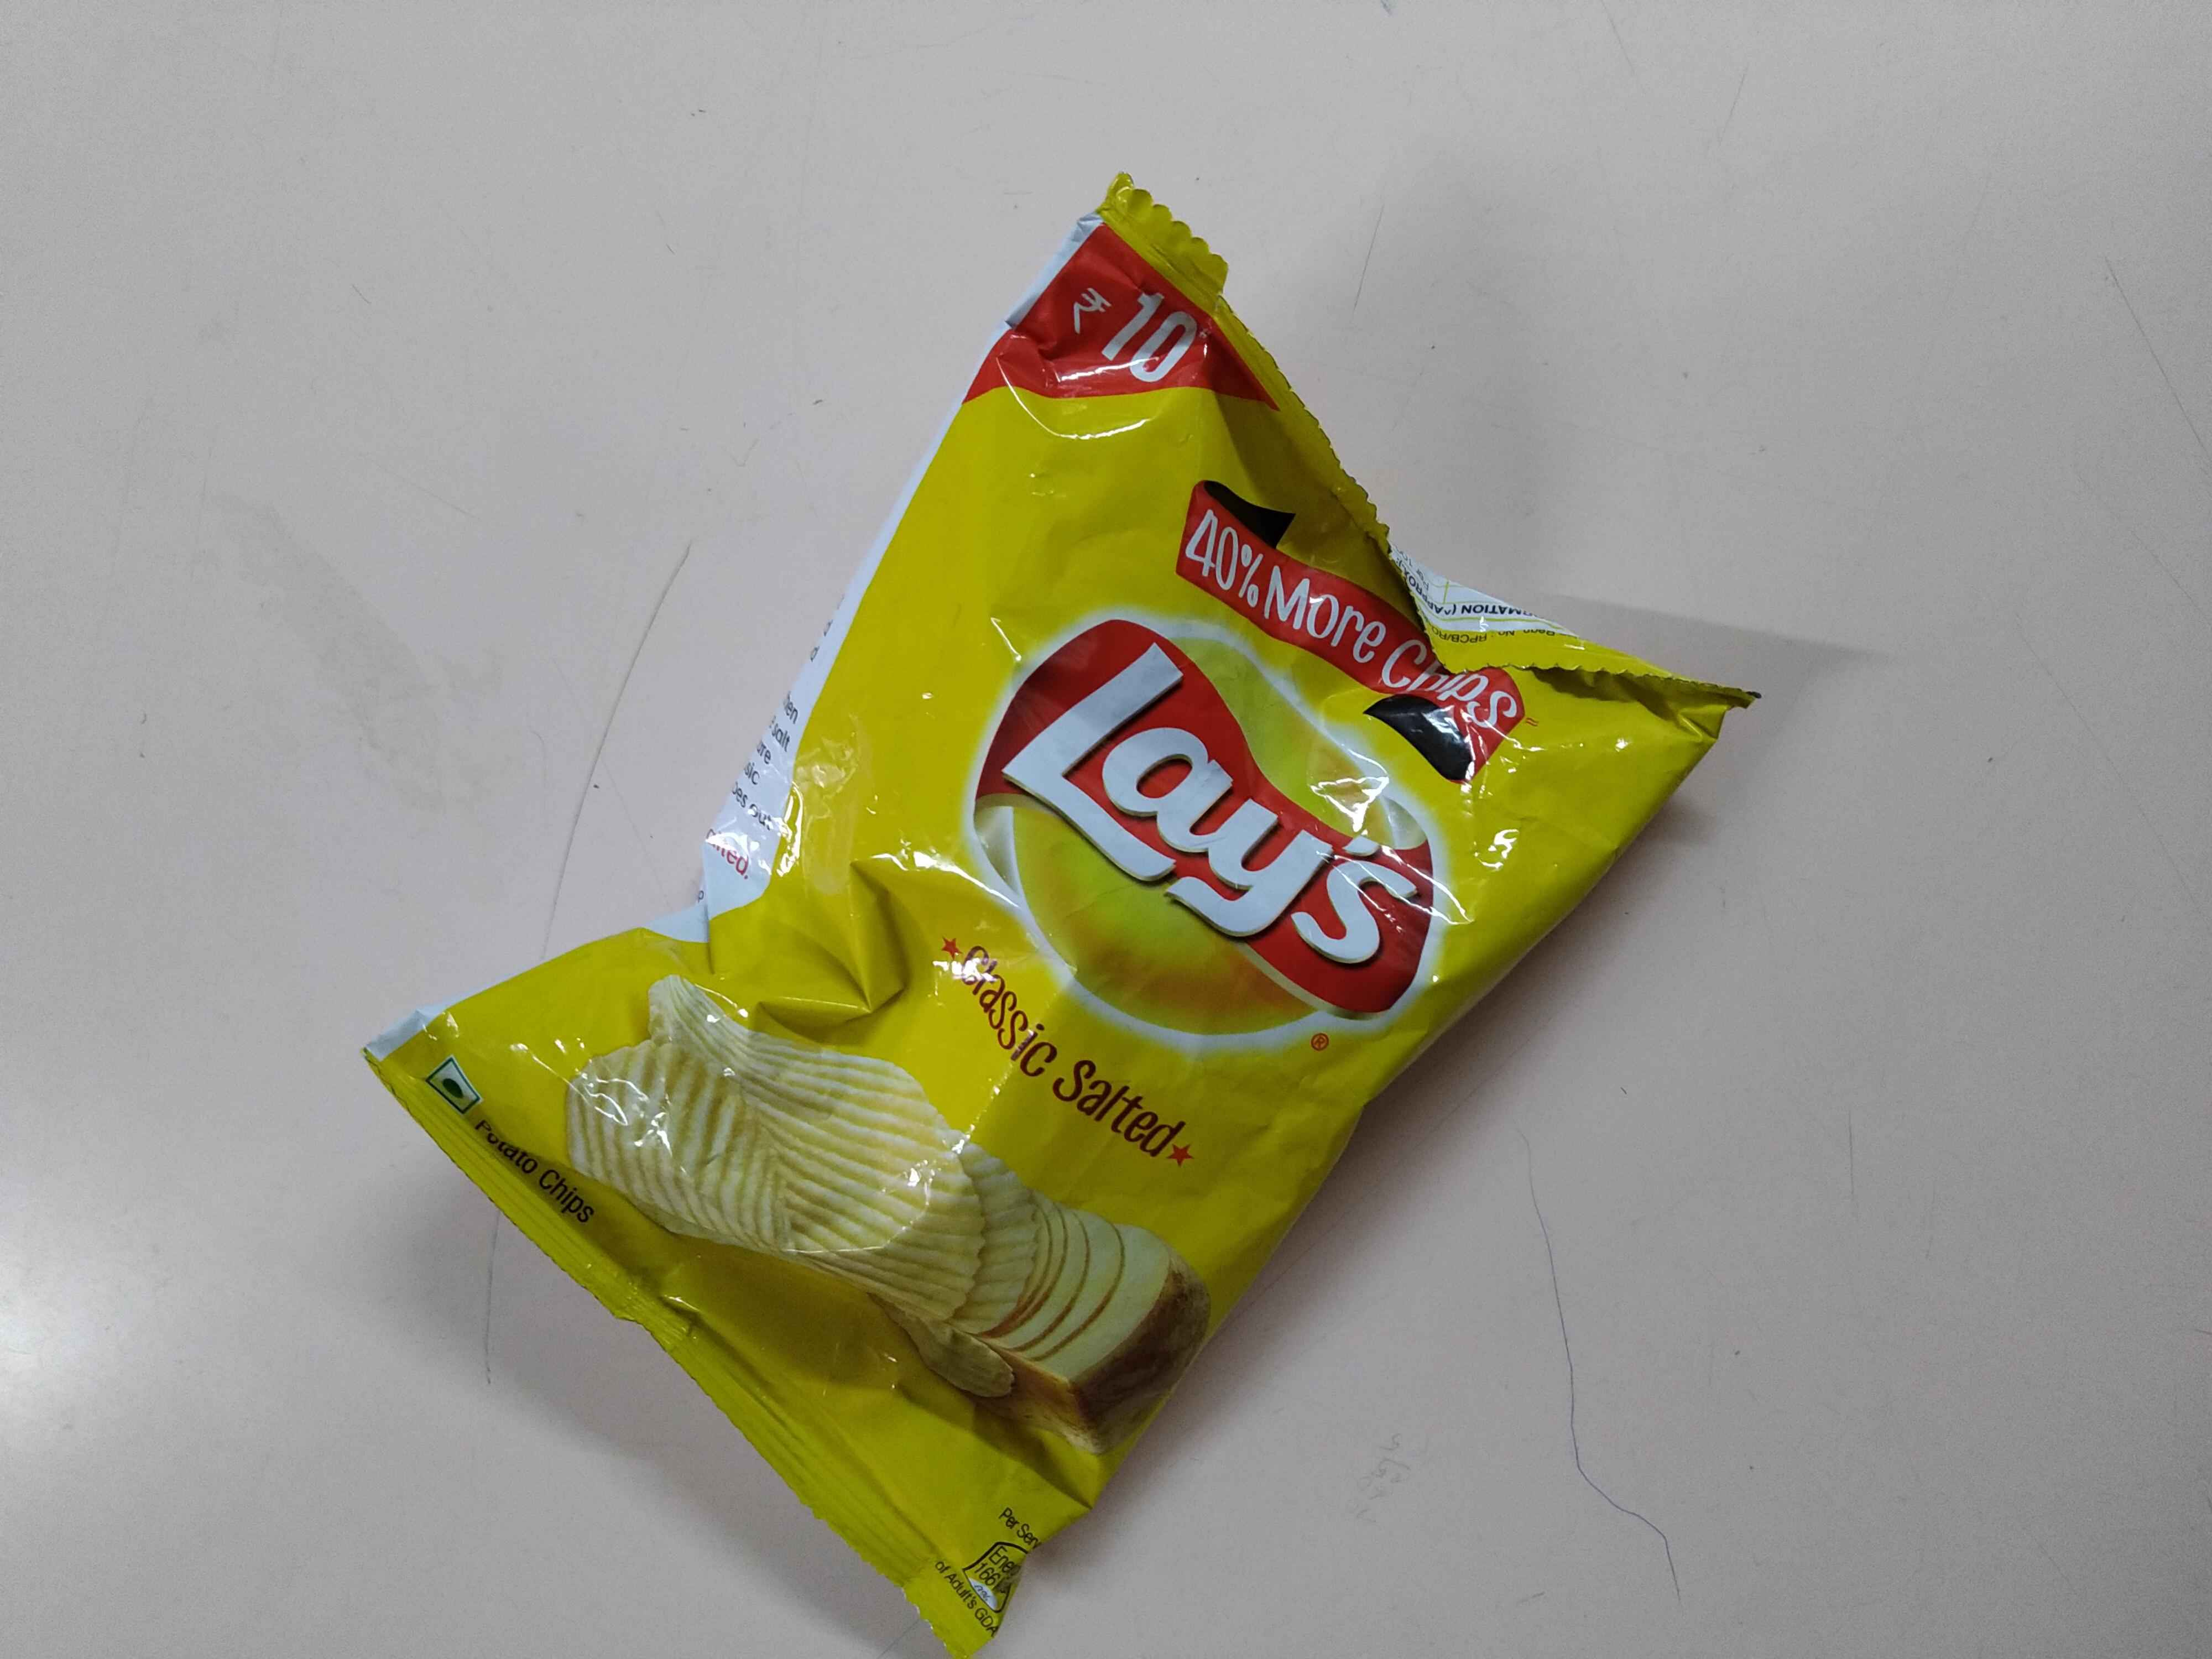Lays: (960, 599, 1460, 1075)
